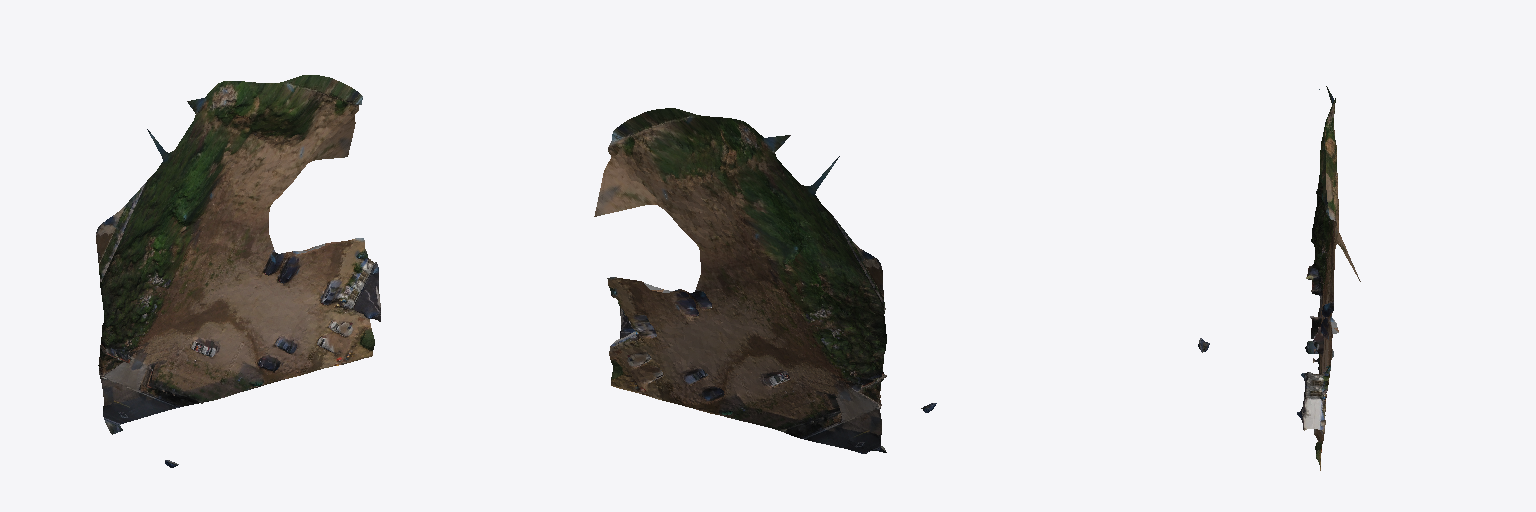
The picture shows the model from 3 angles: view 1: azimuth 30°, elevation 25°; view 2: azimuth 150°, elevation 25°; view 3: azimuth 270°, elevation 25°; orthographic projection.
Size of the model in its own units: 55.95 by 60.69 by 28.79.
2 materials, 1 textured.